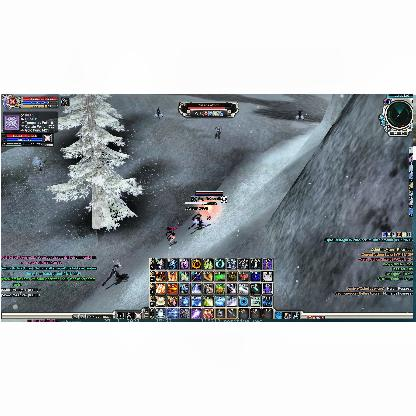caliana: (101, 259, 125, 287), (188, 213, 210, 229), (152, 108, 162, 118), (214, 127, 222, 139), (296, 110, 304, 121)
